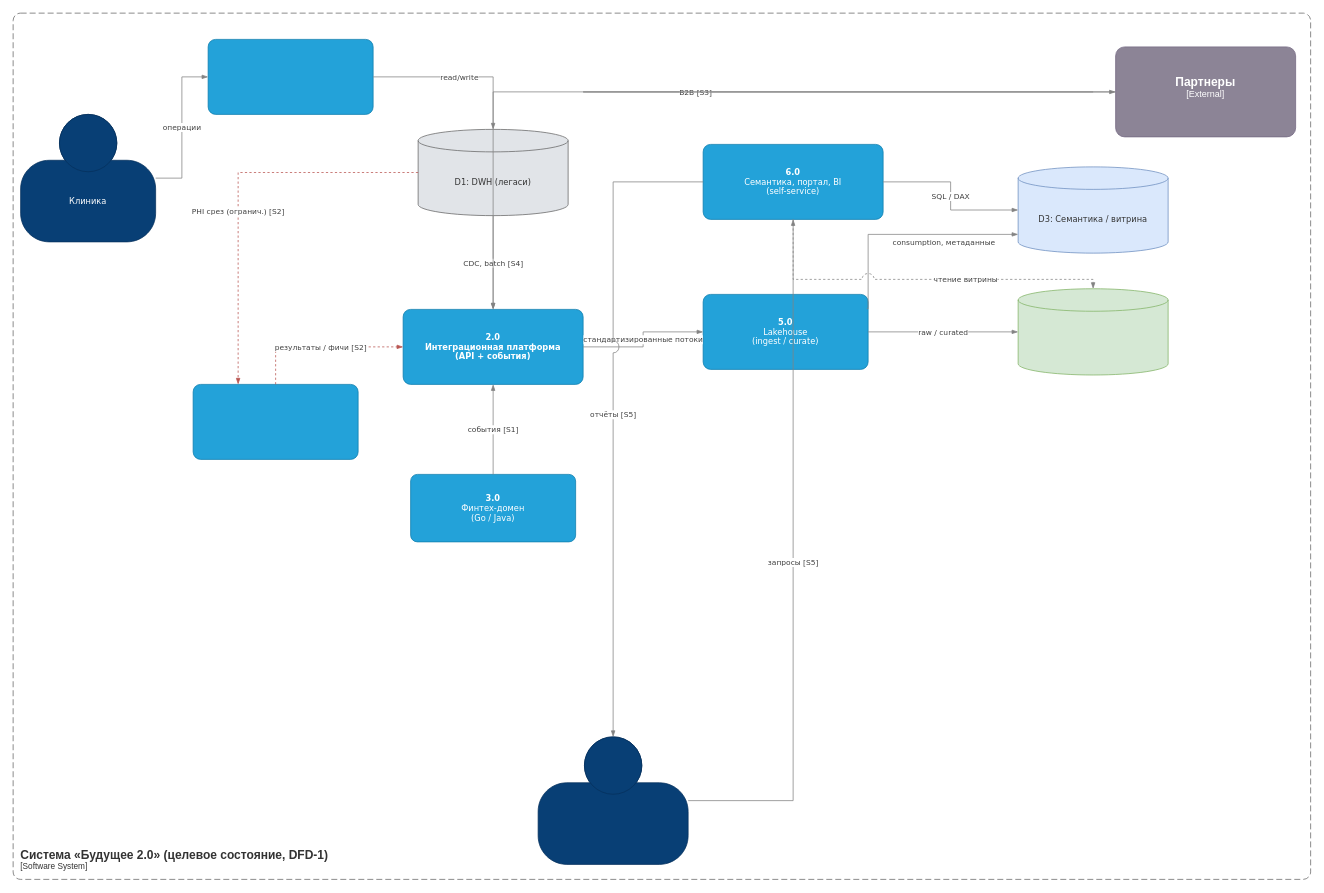
Some shapes in this 1324 by 893 pixel diagram are drawn without their labels. Each missing label, with the centre of its shape:
1.0 Клинические операции (UI / PowerBuilder): the point at 290,76
4.0 ИИ-домен (PHI) (Python): the point at 275,421
D2: Lakehouse: the point at 1092,331
Аналитик / сотрудник: the point at 612,800
